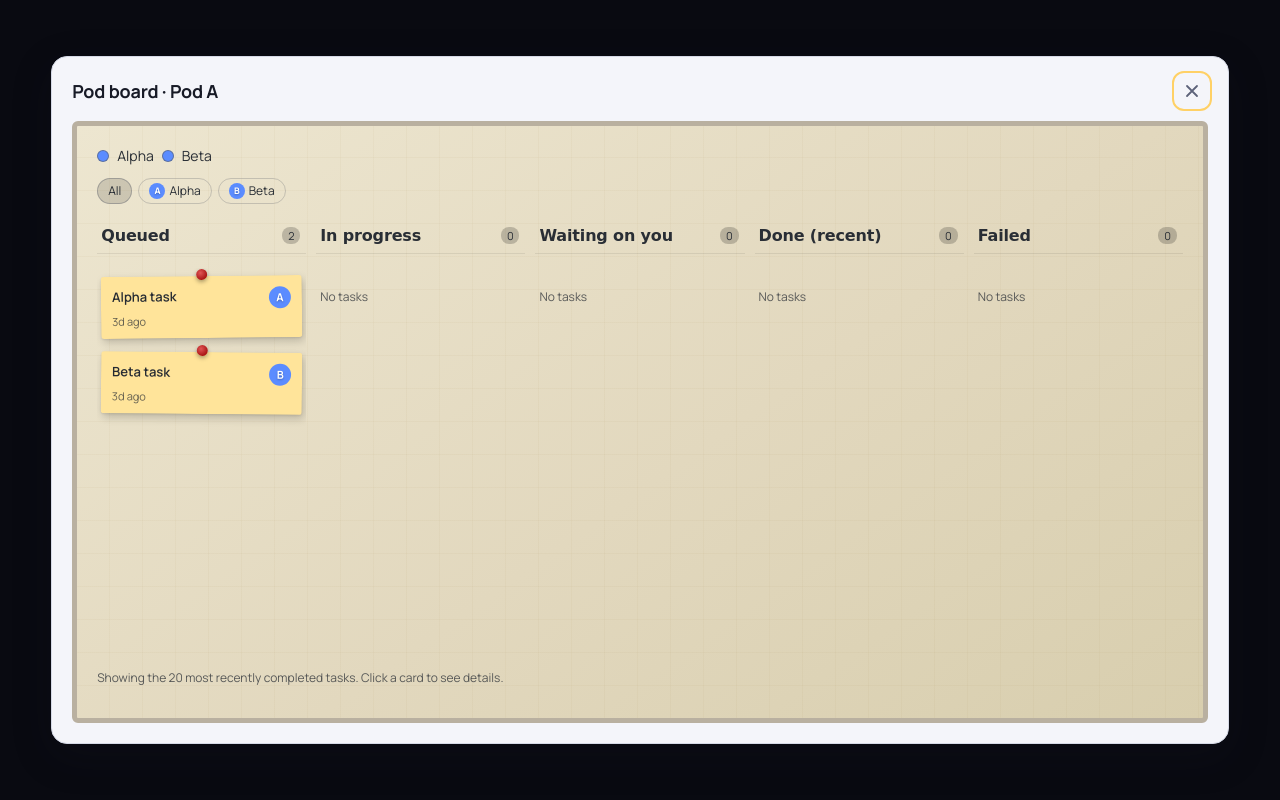
Test case: PodBoard filter chips › shows agent chips and filters columns on toggle
Expected: the text "Alpha task" is shown, [112,287,177,306]
Expected: the text "Beta task" is shown, [112,362,170,380]
# Click Alpha's chip to filter
What coordinates should you click on to do the following:
click the button "A Alpha"
I would click on:
 (175, 191)
Its box is [138,178,212,204].
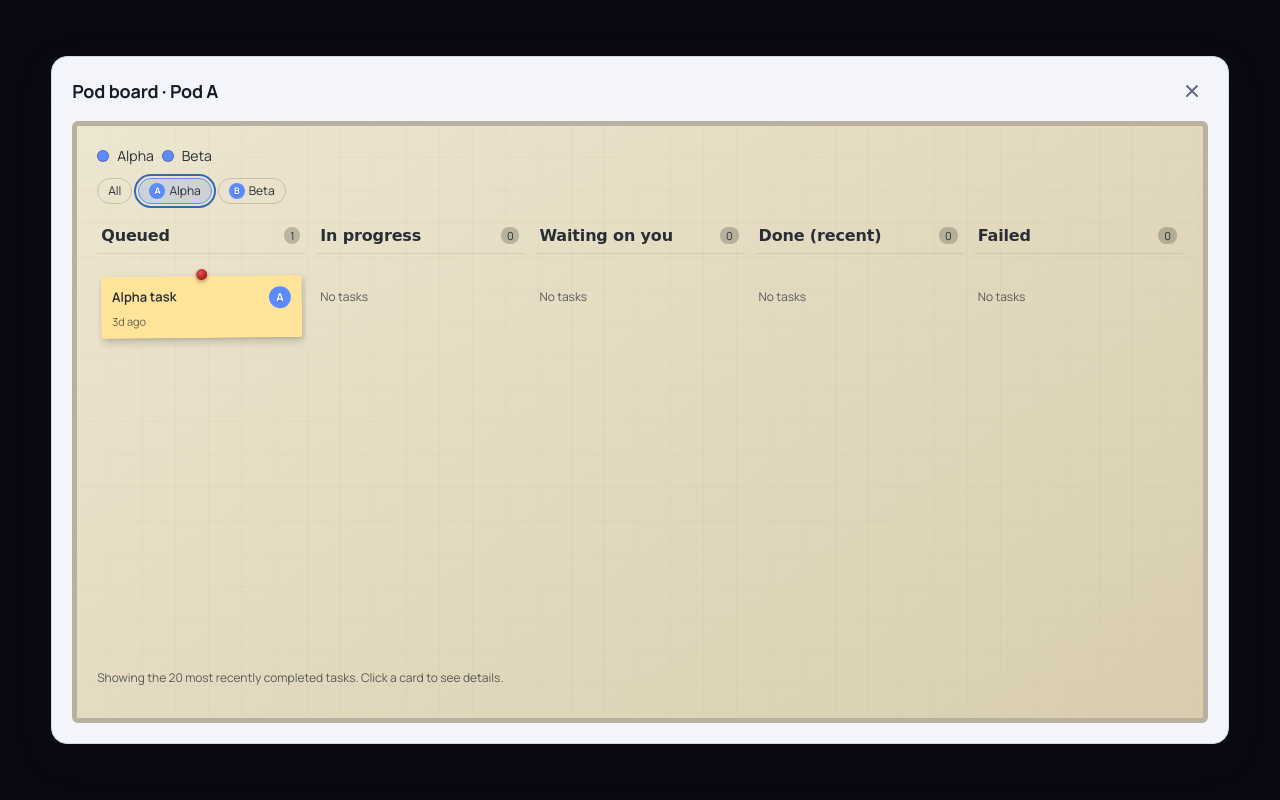
Expected: the text "Alpha task" is shown, [112,287,177,306]
Result: the button "Beta task" is gone
# Click All to reset
What coordinates should you click on to do the following:
click the button with test id "filter-chip-all"
I would click on:
 (115, 191)
Its box is [97,178,132,204].
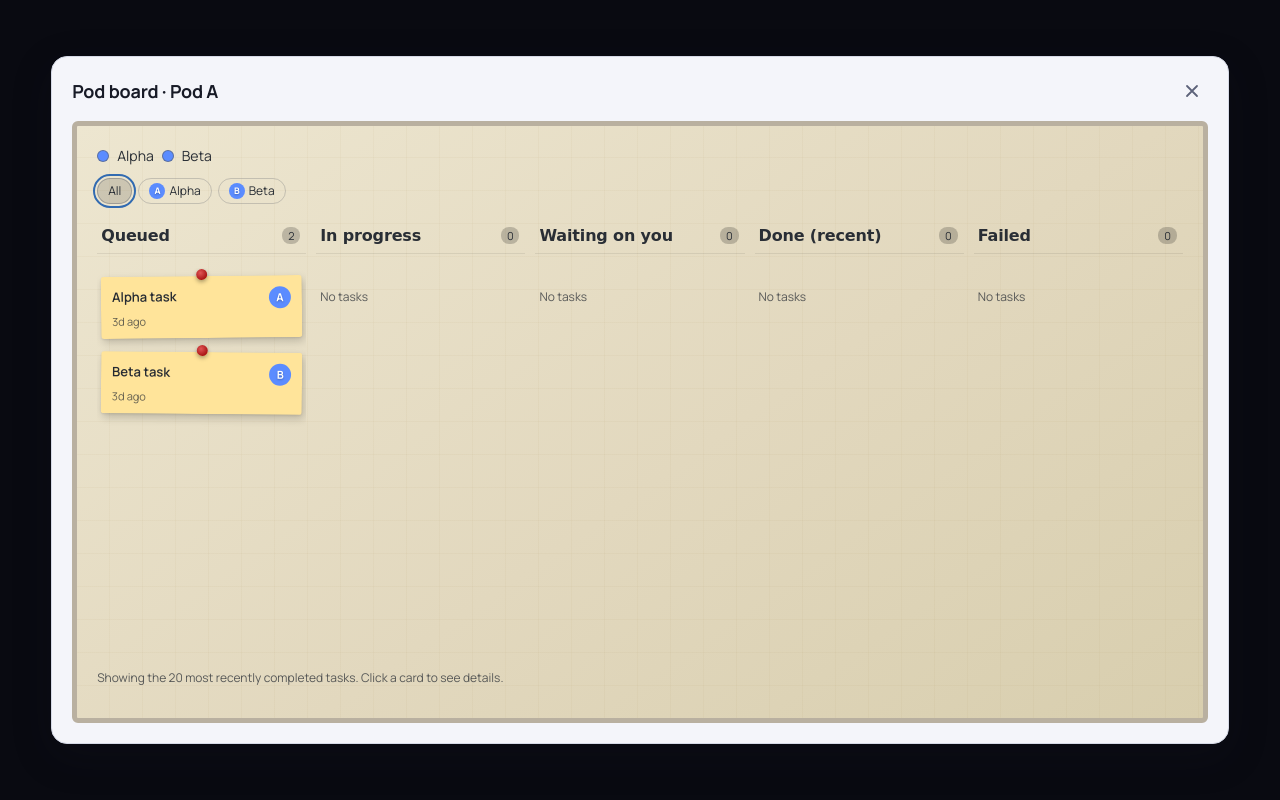
Result: the text "Beta task" is shown at [112,362,170,380]
